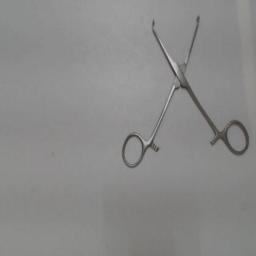Allis Tissue Forceps: (118, 8, 254, 174)
